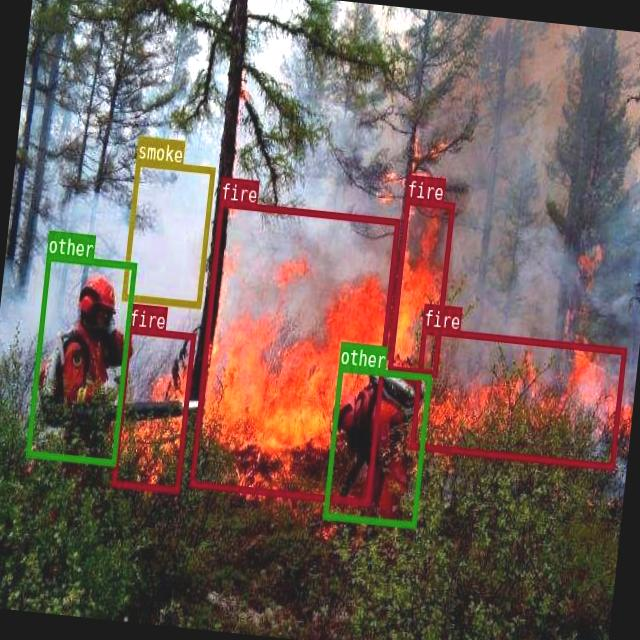fire: (189, 199, 399, 504), (408, 326, 625, 470), (111, 324, 195, 492), (386, 196, 454, 375)
smoke: (120, 158, 214, 308)
